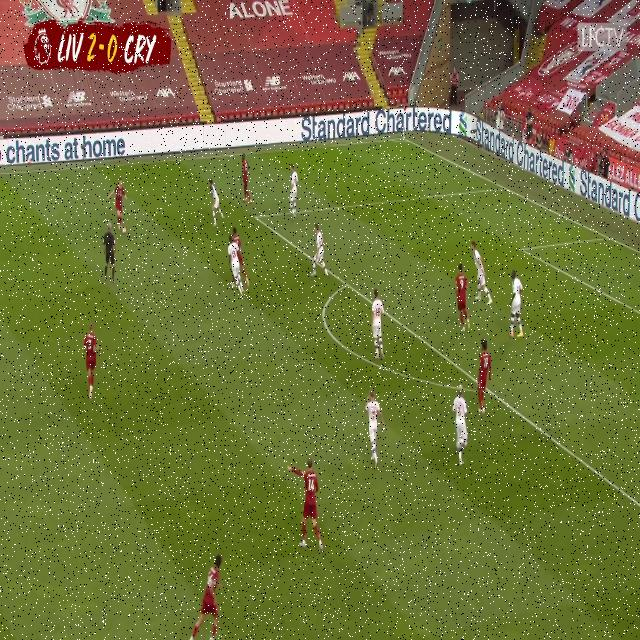Ball: (122, 226, 127, 239)
TEAM 1: (285, 458, 326, 555), (187, 547, 224, 640), (78, 322, 104, 401), (232, 223, 256, 290), (106, 177, 132, 238), (477, 339, 496, 416), (456, 263, 472, 336), (235, 152, 255, 208)
TEAM 2: (364, 386, 387, 474), (469, 236, 496, 308), (451, 385, 473, 468), (369, 286, 389, 364), (310, 220, 330, 284), (207, 173, 225, 234), (288, 158, 300, 223)
